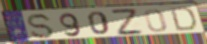0: (86, 10, 111, 36), (144, 8, 169, 33)
9: (59, 12, 83, 38)
D: (168, 6, 198, 32)
S: (27, 12, 57, 40)
Z: (109, 9, 146, 37)
